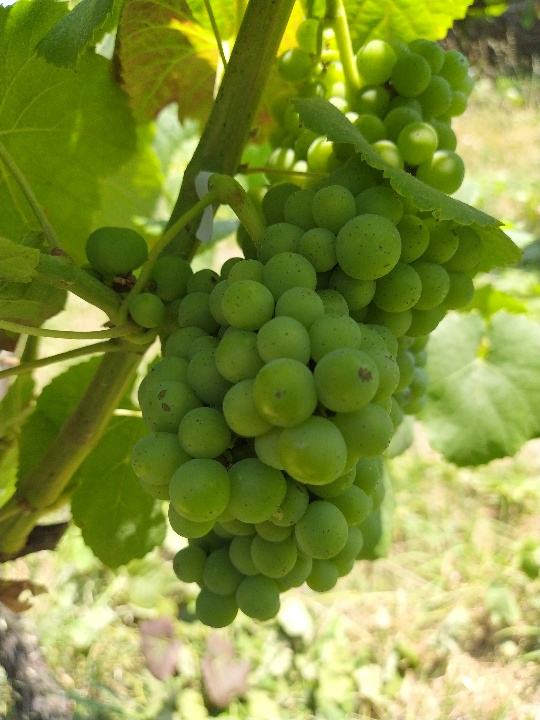grape: (84, 152, 484, 632)
